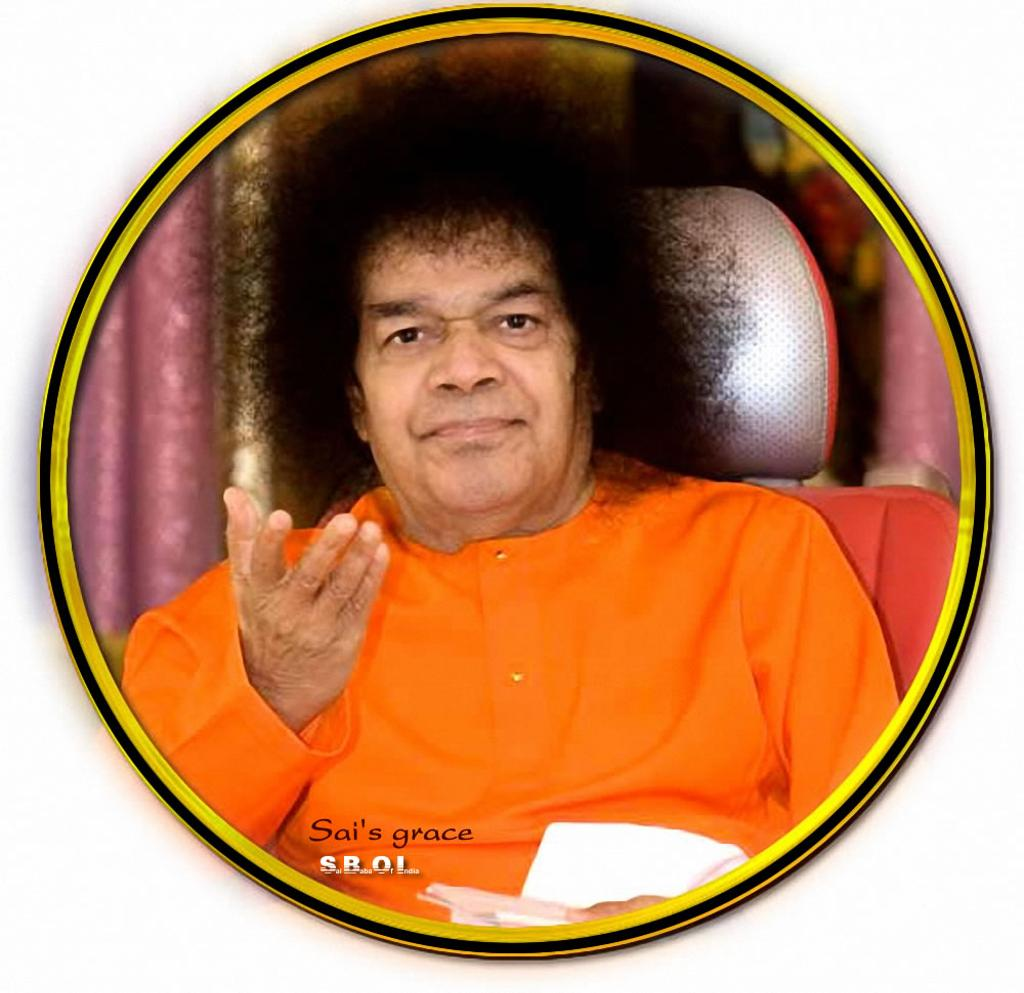face: (364, 216, 576, 500)
